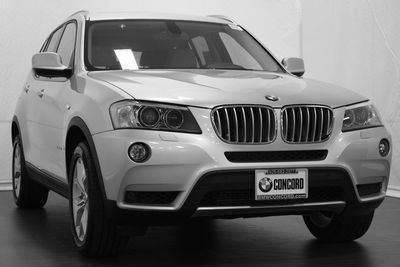car: (10, 8, 396, 261)
